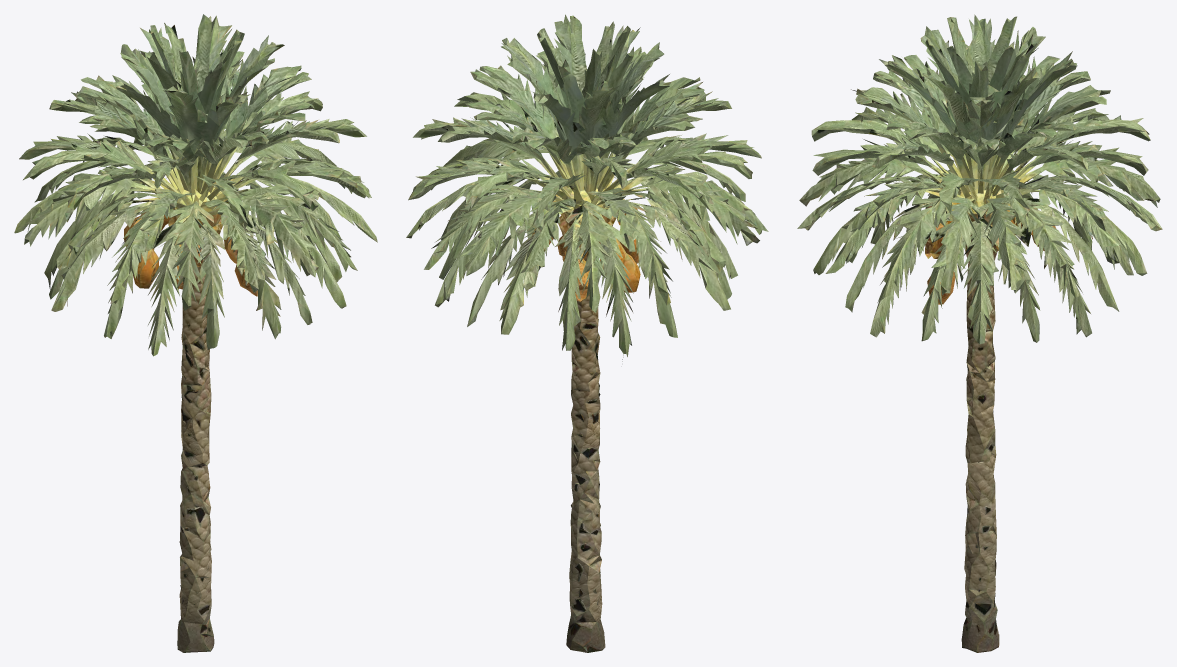
Rendered from dattier.glb.
3 renders of one model, left to right at view 1: azimuth 30°, elevation 25°; view 2: azimuth 150°, elevation 25°; view 3: azimuth 270°, elevation 25°, orthographic.
Bounding box in the file's own units: 0.9963 × 1.86 × 1.
Materials: 1 (1 with a texture image).
